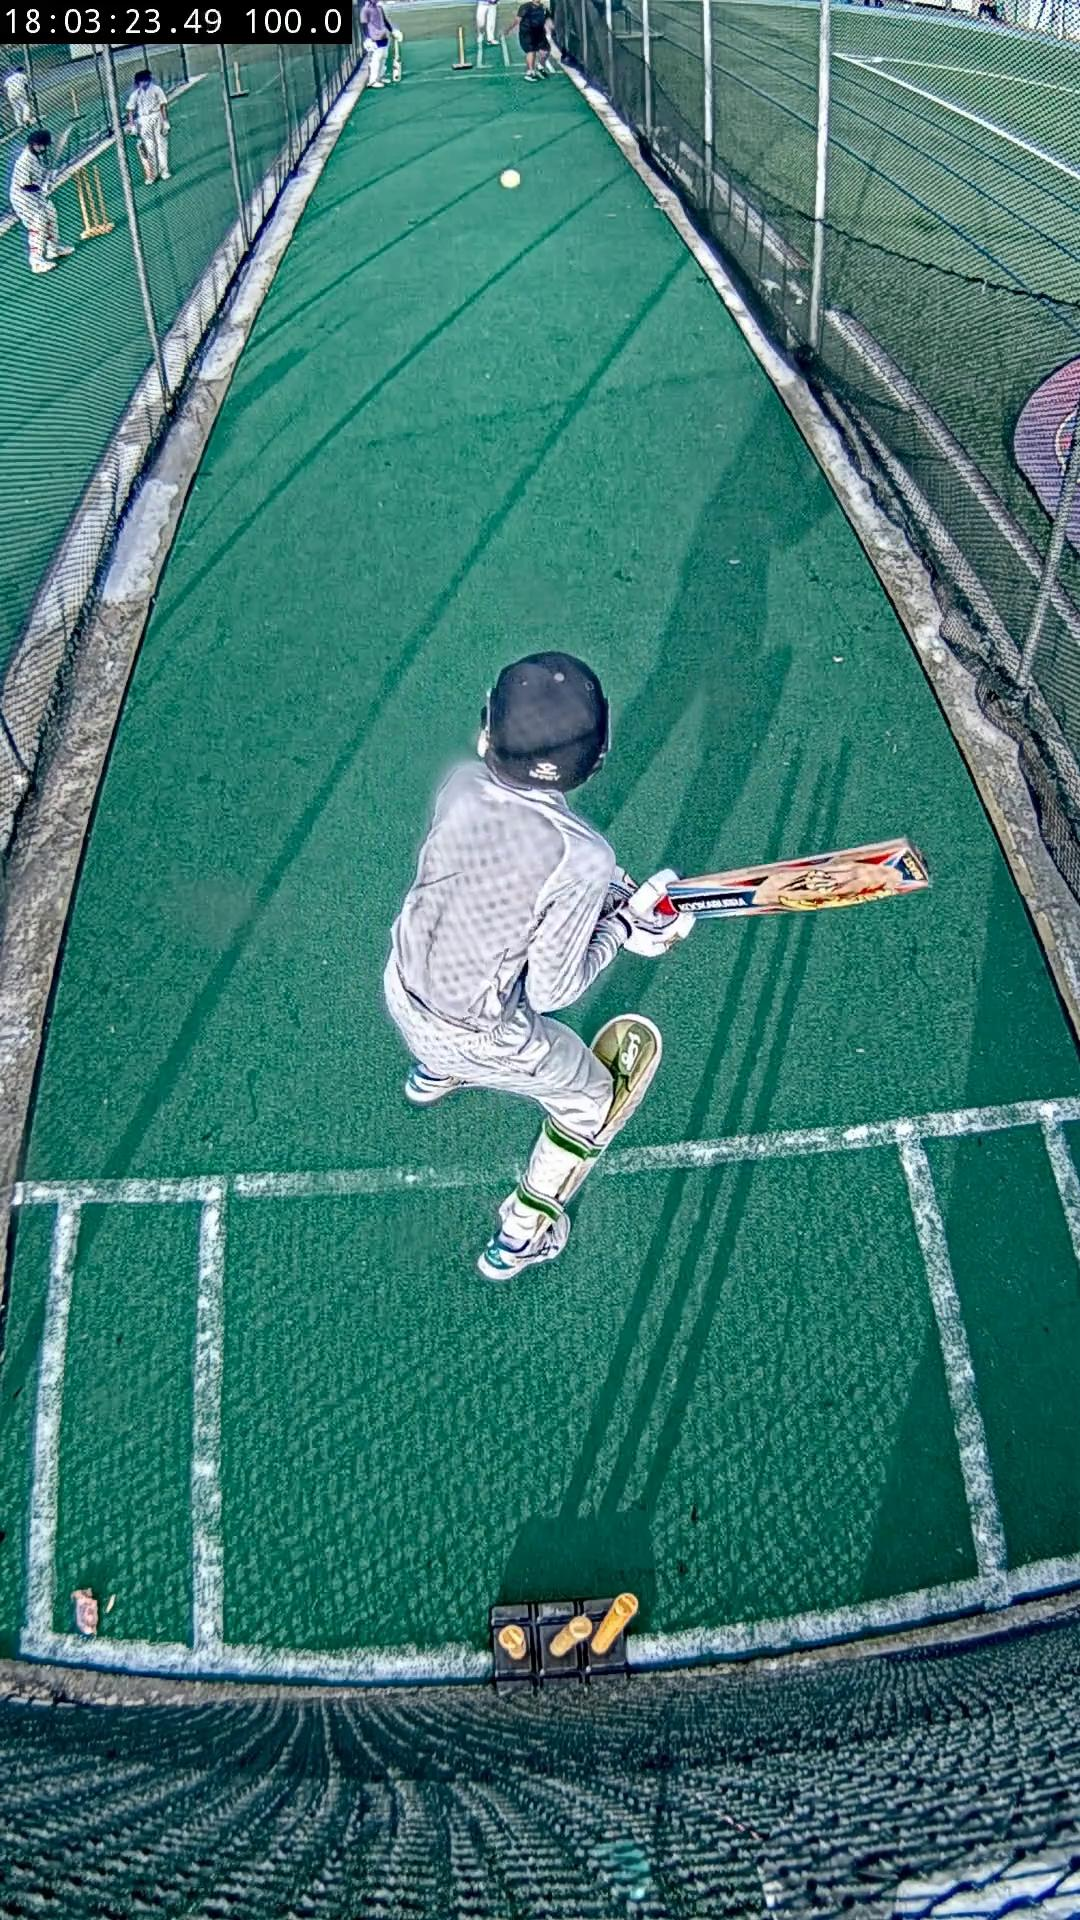ball: (498, 169, 521, 187)
bat: (661, 836, 930, 919)
gloves: (604, 866, 694, 956)
helmet: (484, 653, 608, 791)
pads: (555, 1013, 663, 1201)
stumps: (492, 1594, 637, 1692)
